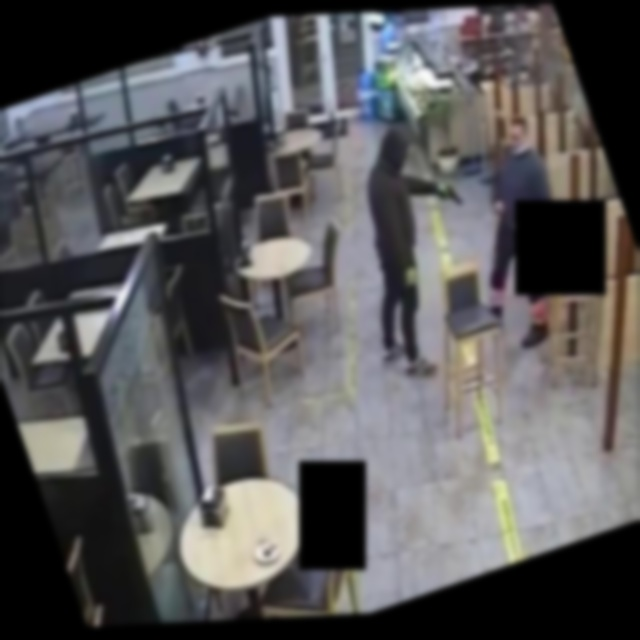gun: (417, 163, 485, 230)
